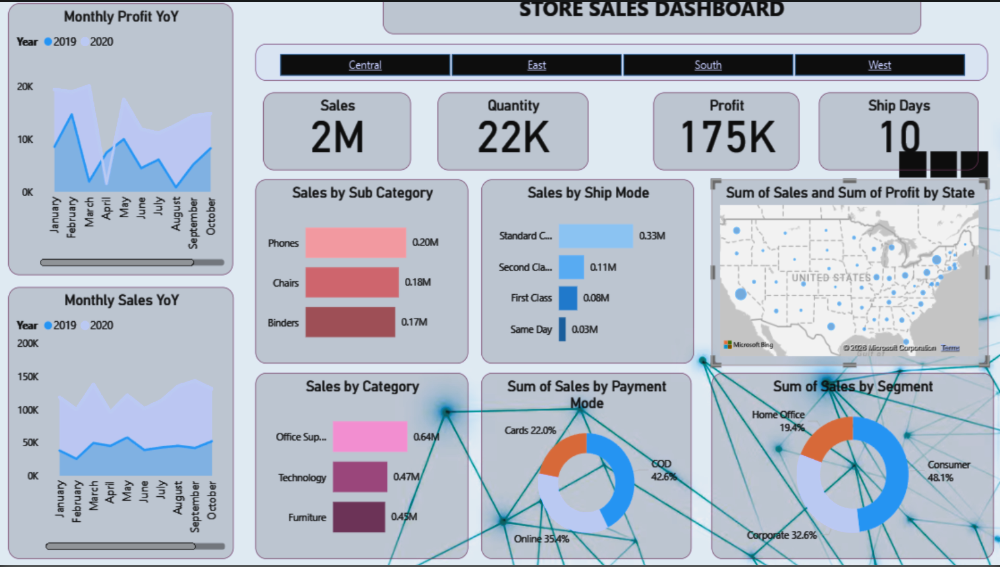

The page's visual inventory and layout, read from the dashboard file:
{"tool":"powerbi","page":{"name":"Page 1","canvas":[1280,720],"ordinal":0},"visuals":[{"type":"clusteredBarChart","title":"Sales by Category","fields":{"Y":["Sum(SuperStore_Sales_Dataset.Sales)"],"Category":["SuperStore_Sales_Dataset.Category"]},"box":[328.8,479.8,272.4,229.4],"z":0},{"type":"clusteredBarChart","title":"Sales by Sub Category","fields":{"Y":["Sum(SuperStore_Sales_Dataset.Sales)"],"Category":["SuperStore_Sales_Dataset.Sub-Category"]},"box":[328.8,241.7,272.4,227],"z":1000},{"type":"clusteredBarChart","title":"Sales by Ship Mode","fields":{"Y":["Sum(SuperStore_Sales_Dataset.Sales)"],"Category":["SuperStore_Sales_Dataset.Ship Mode"]},"box":[617.2,241.7,272.4,227],"z":2000},{"type":"stackedAreaChart","title":"Monthly Profit YoY","fields":{"Category":["SuperStore_Sales_Dataset.Order Date.Variation.Date Hierarchy.Month","SuperStore_Sales_Dataset.Order Date.Variation.Date Hierarchy.Day"],"Series":["SuperStore_Sales_Dataset.Order Date.Variation.Date Hierarchy.Year"],"Y":["Sum(SuperStore_Sales_Dataset.Profit)"]},"box":[13.5,24.5,287.1,335],"z":3000},{"type":"stackedAreaChart","title":"Monthly Sales YoY","fields":{"Category":["SuperStore_Sales_Dataset.Order Date.Variation.Date Hierarchy.Month","SuperStore_Sales_Dataset.Order Date.Variation.Date Hierarchy.Day"],"Y":["Sum(SuperStore_Sales_Dataset.Sales)"],"Series":["SuperStore_Sales_Dataset.Order Date.Variation.Date Hierarchy.Year"]},"box":[12.3,374.2,288.3,335],"z":4000},{"type":"map","fields":{"Category":["SuperStore_Sales_Dataset.State"],"Size":["Sum(SuperStore_Sales_Dataset.Sales)"]},"box":[911.7,241.7,353.4,229.4],"z":5000},{"type":"donutChart","fields":{"Category":["SuperStore_Sales_Dataset.Segment"],"Y":["Sum(SuperStore_Sales_Dataset.Sales)"]},"box":[911.7,479.8,360.7,229.4],"z":6000},{"type":"donutChart","fields":{"Y":["Sum(SuperStore_Sales_Dataset.Sales)"],"Category":["SuperStore_Sales_Dataset.Payment Mode"]},"box":[617.2,479.8,268.7,229.4],"z":7000},{"type":"slicer","fields":{"Values":["SuperStore_Sales_Dataset.Region"]},"box":[328.8,74.8,936.2,45.4],"z":8000},{"type":"textbox","box":[492,0,688.3,62.6],"z":9000},{"type":"card","title":"Sales","fields":{"Values":["Sum(SuperStore_Sales_Dataset.Sales)"]},"box":[338.7,133.7,189,95.7],"z":10000},{"type":"card","title":"Quantity","fields":{"Values":["Sum(SuperStore_Sales_Dataset.Quantity)"]},"box":[560.7,133.7,192.6,95.7],"z":11000},{"type":"card","title":"Profit","fields":{"Values":["Sum(SuperStore_Sales_Dataset.Profit)"]},"box":[836.8,133.7,186.5,95.7],"z":12000},{"type":"card","title":"Ship Days","fields":{"Values":["Avg(SuperStore_Sales_Dataset.AvgDelivery)"]},"box":[1047.9,133.7,203.7,95.7],"z":13000}]}

Visuals, with their boxes in screenshot pixels (x1, y1, x2, y2), scaled from the page's 1280x720 canvas onto the 1000x567 screenshot:
"Sales by Category" clusteredBarChart: [257,378,470,558]
"Sales by Sub Category" clusteredBarChart: [257,190,470,369]
"Sales by Ship Mode" clusteredBarChart: [482,190,695,369]
"Monthly Profit YoY" stackedAreaChart: [11,19,235,283]
"Monthly Sales YoY" stackedAreaChart: [10,295,235,558]
map - SuperStore_Sales_Dataset.State x Sum(SuperStore_Sales_Dataset.Sales): [712,190,988,371]
donutChart - SuperStore_Sales_Dataset.Segment x Sum(SuperStore_Sales_Dataset.Sales): [712,378,994,558]
donutChart - Sum(SuperStore_Sales_Dataset.Sales) x SuperStore_Sales_Dataset.Payment Mode: [482,378,692,558]
slicer - SuperStore_Sales_Dataset.Region: [257,59,988,95]
textbox: [384,0,922,49]
"Sales" card: [265,105,412,181]
"Quantity" card: [438,105,589,181]
"Profit" card: [654,105,799,181]
"Ship Days" card: [819,105,978,181]
